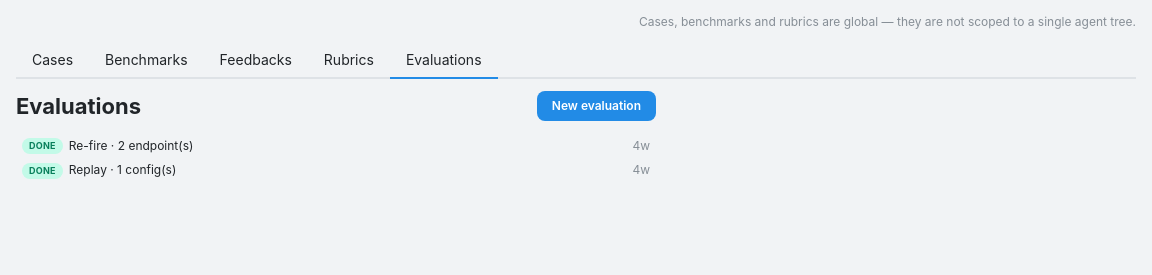
Test: EvaluationsPage — landing › lists evaluations from GET evaluations and routes to the detail on row click
expect the text "Replay · 1 config(s)" is shown: met, box [69,162,176,179]
Click the button with aria-label "Open Replay · 1 config" at (42, 171), box [16,158,656,183]
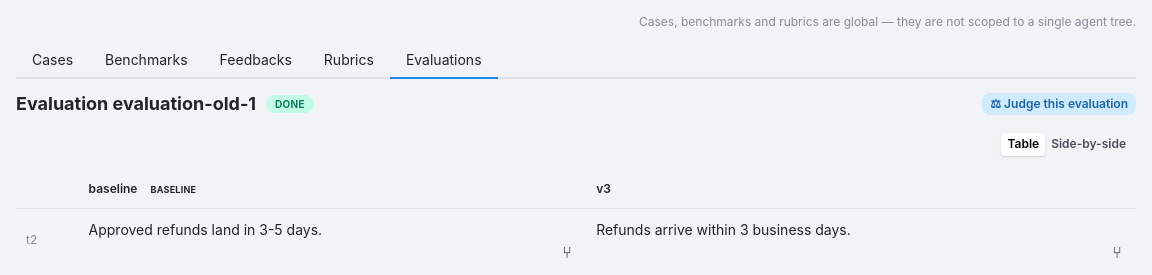
expect the heading "Evaluation evaluation-old-1" is shown: met, box [16,91,256,117]
expect the text "v3" is shown: met, box [596,182,611,198]
